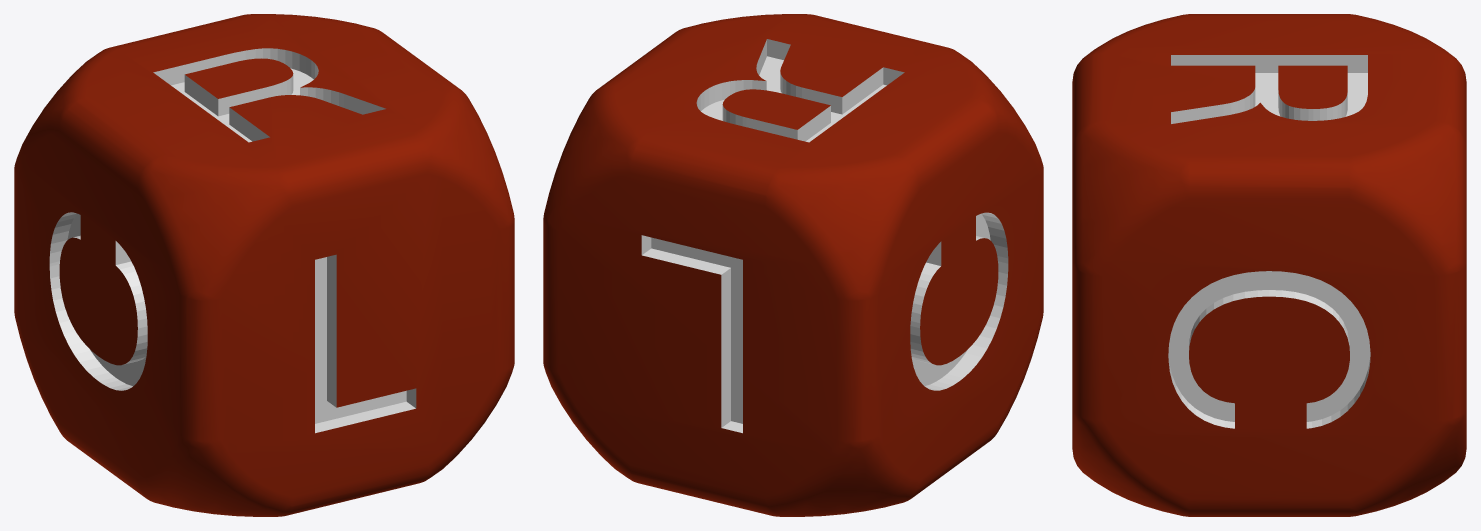
Rendered from DieLRC.glb.
3 views of the same model, side by side, from view 1: azimuth 30°, elevation 25°; view 2: azimuth 150°, elevation 25°; view 3: azimuth 270°, elevation 25° (orthographic). The views are drawn at different scales.
Parts seen in each view (by area): view 1: Die_Body; view 2: Die_Body; view 3: Die_Body.
Boxes of the visible parts, x1,y1,x2,y2 form: Die_Body: (14, 14, 514, 516); Die_Body: (543, 14, 1043, 516); Die_Body: (1072, 14, 1466, 516).
Size of the model in its own units: 1 by 1 by 1.
